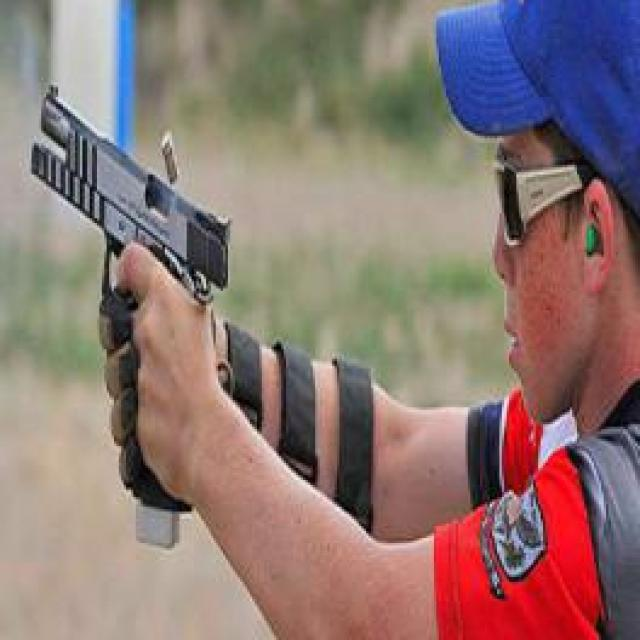pistol: (26, 70, 232, 556)
